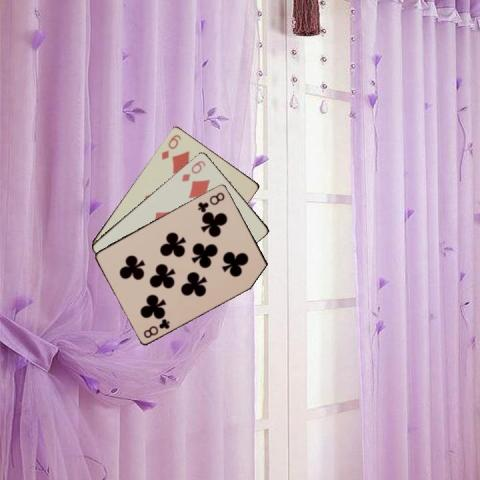6d: (158, 131, 183, 161), (179, 157, 207, 183)
8c: (195, 189, 226, 213), (141, 316, 171, 340)
